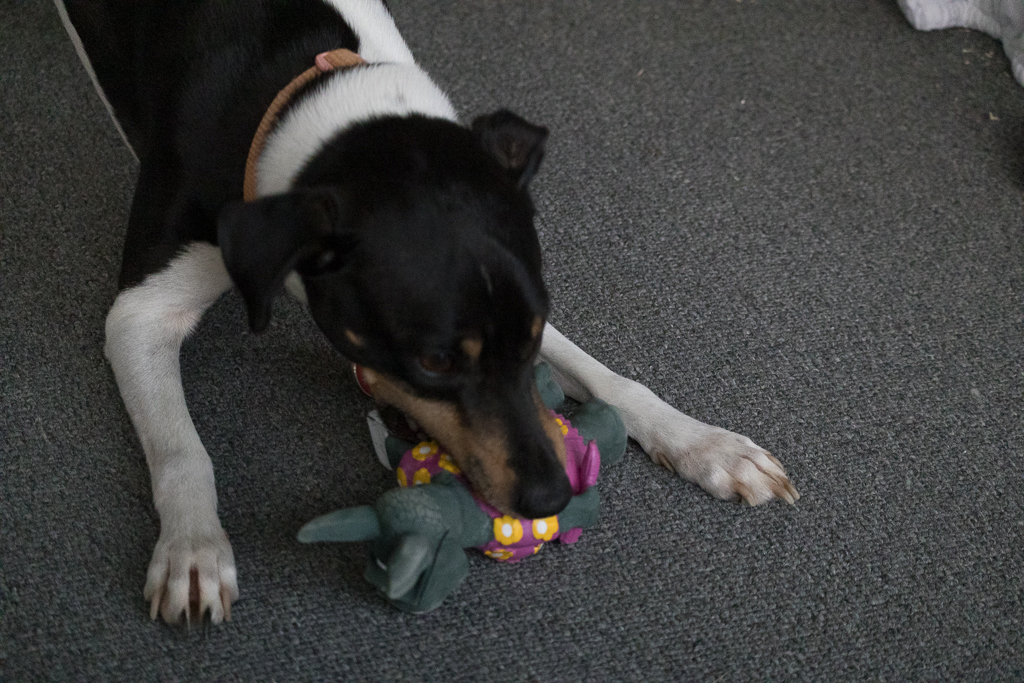Dog: (49, 0, 813, 639)
Humanoid: (292, 356, 658, 621)
